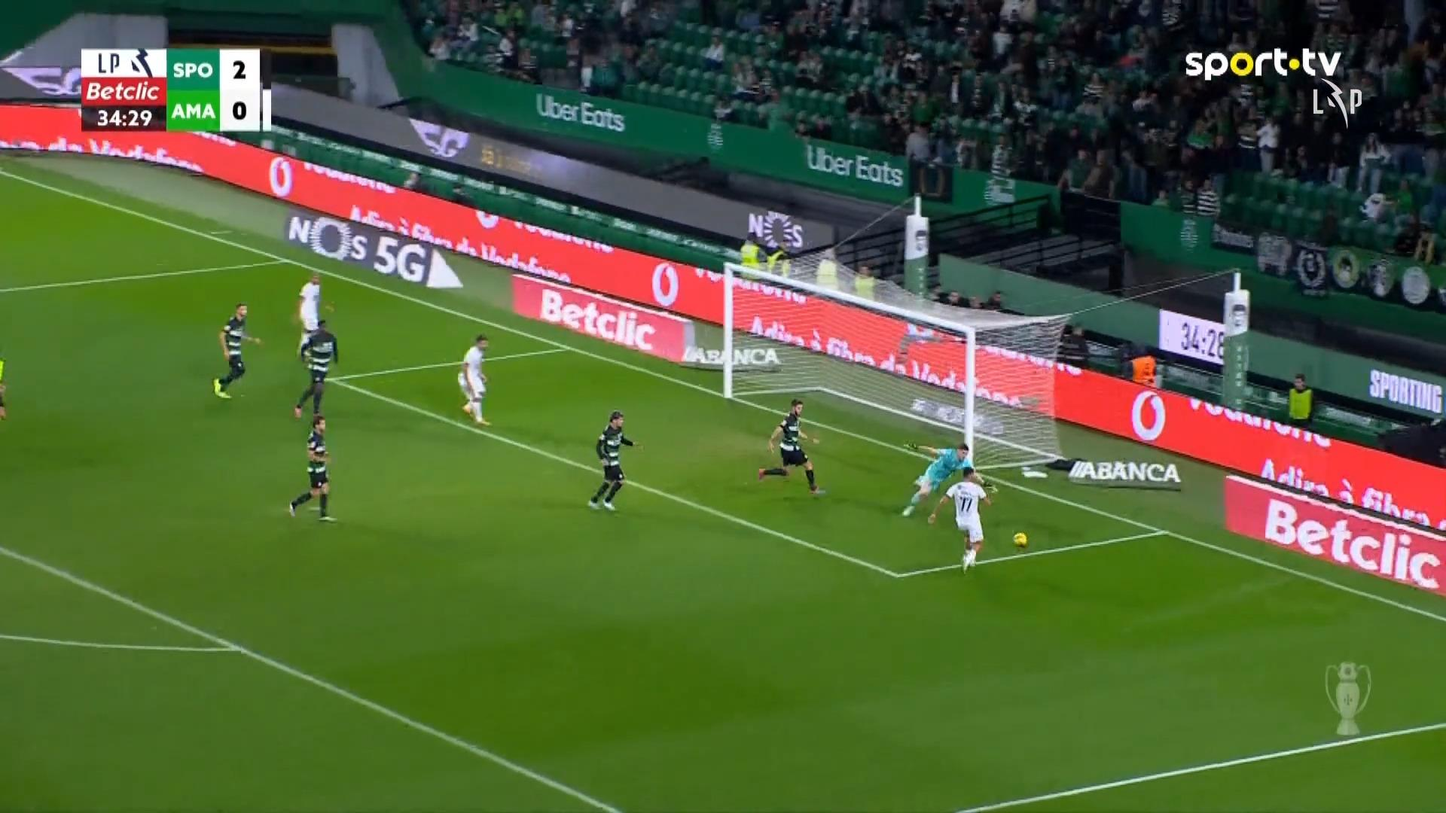ball: (1012, 531, 1027, 547)
goalkeeper: (900, 439, 987, 517)
player: (926, 465, 994, 573), (756, 397, 825, 495), (587, 410, 643, 510), (286, 414, 337, 522), (212, 303, 262, 399), (292, 318, 338, 419), (457, 333, 492, 425), (295, 272, 330, 356)
referee: (1286, 372, 1313, 428)
